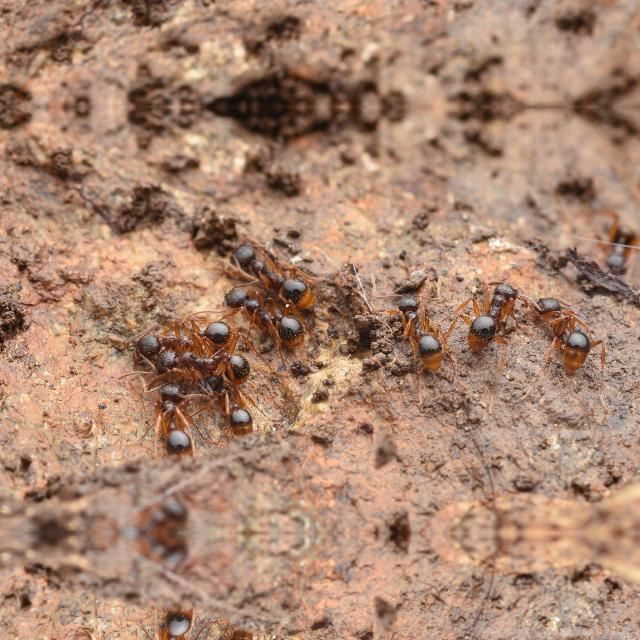Apheanogaster: (526, 280, 616, 372), (374, 280, 460, 376), (231, 230, 319, 310), (130, 367, 206, 459), (212, 279, 314, 343), (192, 361, 272, 439), (120, 312, 246, 361), (453, 268, 531, 346), (149, 339, 255, 386), (586, 210, 640, 282), (130, 606, 204, 640)
